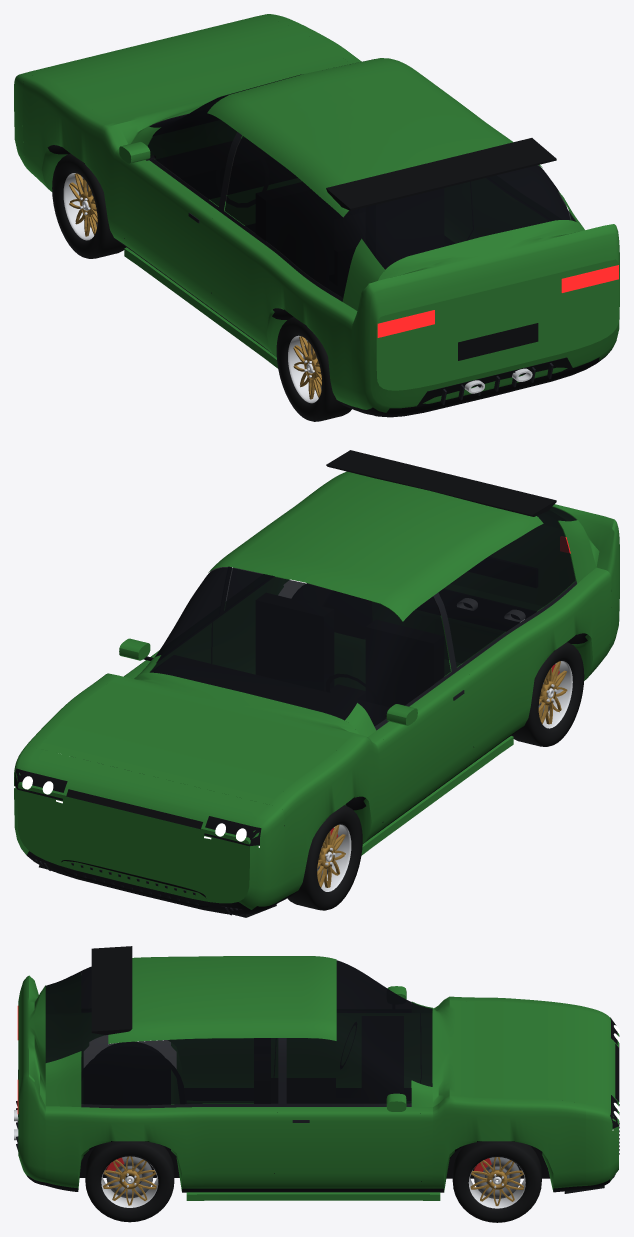
3 views of the same model, one above another, from view 1: azimuth 30°, elevation 25°; view 2: azimuth 150°, elevation 25°; view 3: azimuth 270°, elevation 25° (orthographic). The views are drawn at different scales.
Parts seen in each view (by area): view 1: body, glass, bumper_rear, bumper_front, hood, spoiler, wheel_FL, wheel_RL, interior_low, lights_rear, skirts; view 2: body, glass, bumper_front, hood, spoiler, wheel_FL, wheel_RL, bumper_rear, interior_low, skirts; view 3: body, glass, hood, bumper_front, wheel_FR, wheel_RR, bumper_rear, spoiler, skirts, brake_RR, brake_FR, interior_low.
Part boxes in pixels (left/top/right/bottom): body: left=22, top=15, right=582, bottom=414; glass: left=147, top=59, right=575, bottom=297; bumper_rear: left=351, top=220, right=619, bottom=417; bumper_front: left=14, top=14, right=619, bottom=390; hood: left=38, top=18, right=350, bottom=144; spoiler: left=326, top=138, right=556, bottom=210; wheel_FL: left=52, top=153, right=126, bottom=258; wheel_RL: left=276, top=317, right=351, bottom=421; interior_low: left=155, top=138, right=443, bottom=285; lights_rear: left=377, top=265, right=618, bottom=337; skirts: left=124, top=247, right=277, bottom=368; body: left=25, top=471, right=611, bottom=906; glass: left=150, top=507, right=576, bottom=726; bumper_front: left=14, top=526, right=611, bottom=917; hood: left=38, top=672, right=359, bottom=804; spoiler: left=326, top=450, right=556, bottom=516; wheel_FL: left=287, top=805, right=362, bottom=910; wheel_RL: left=511, top=642, right=584, bottom=746; bumper_rear: left=431, top=504, right=619, bottom=656; interior_low: left=155, top=596, right=443, bottom=726; skirts: left=361, top=736, right=513, bottom=855; body: left=45, top=956, right=585, bottom=1192; glass: left=45, top=960, right=432, bottom=1105; hood: left=432, top=1000, right=585, bottom=1106; bumper_front: left=564, top=1007, right=619, bottom=1193; wheel_FR: left=452, top=1141, right=541, bottom=1222; wheel_RR: left=85, top=1141, right=174, bottom=1222; bumper_rear: left=16, top=975, right=45, bottom=1185; spoiler: left=91, top=946, right=132, bottom=1035; skirts: left=186, top=1101, right=440, bottom=1200; brake_RR: left=106, top=1156, right=153, bottom=1198; brake_FR: left=474, top=1157, right=520, bottom=1198; interior_low: left=254, top=1016, right=403, bottom=1103.
Size of what is drawn, in the model's own units: 1.93 by 1.46 by 4.29.
